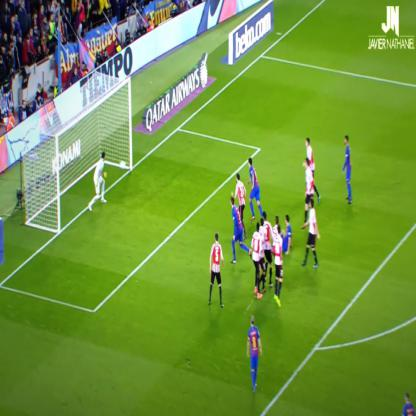goal: (5, 12, 401, 413)
